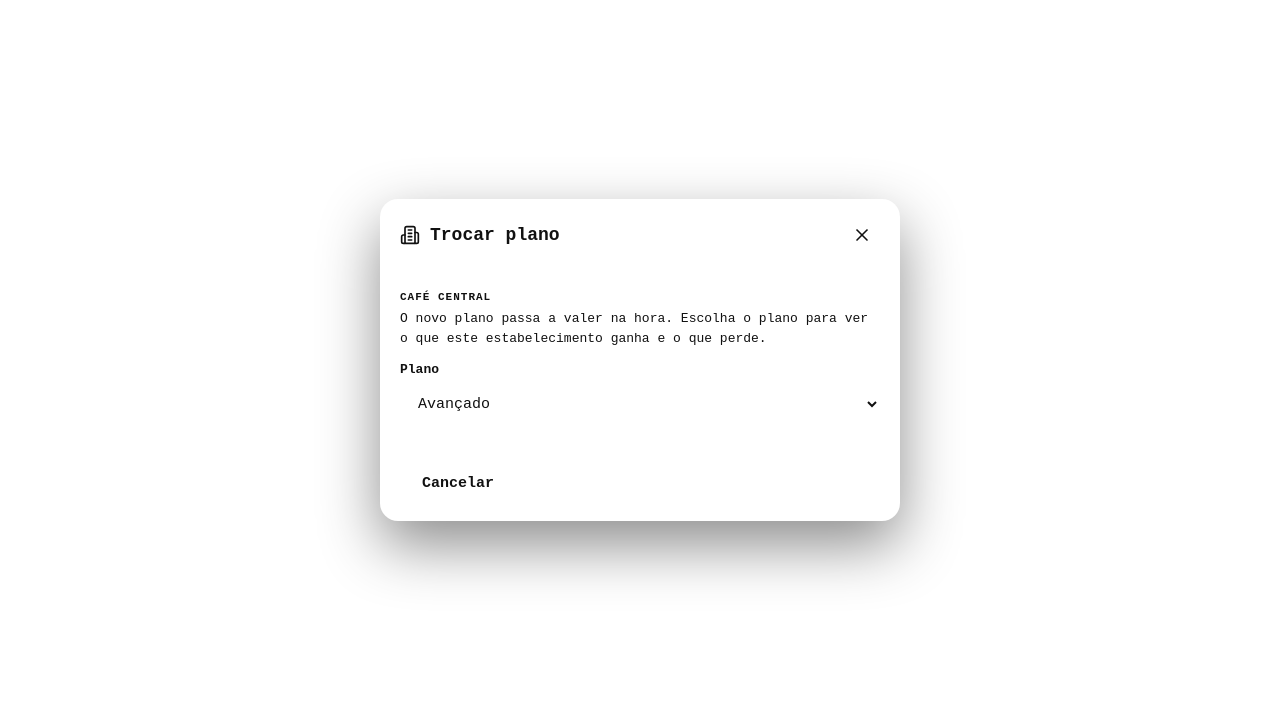
Test case: AlterarPlanoModal, a troca de plano diz o que o cliente perde › na troca que perde uma coisa e ganha outra, mostra as duas listas
The image size is (1280, 720).
Select "Alto" in the dropdown at (640, 404), box [400,383,880,426]
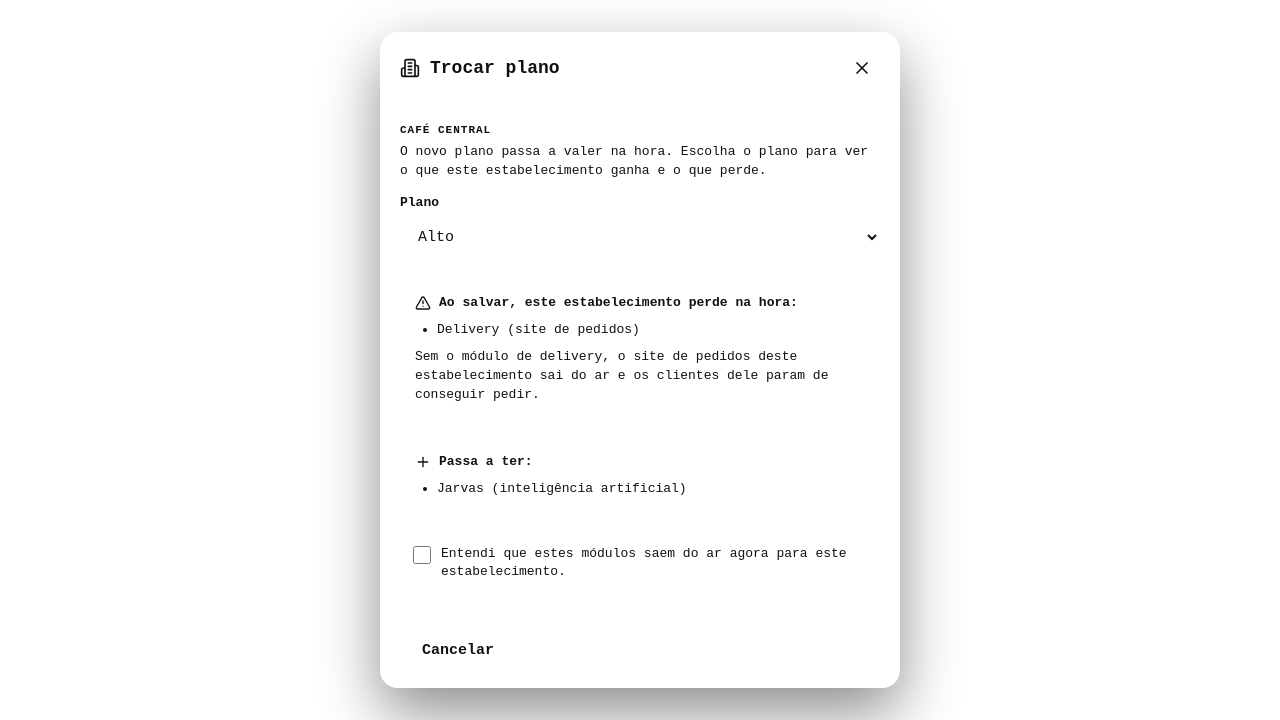
Expected: the 1st message shows "Delivery (site de pedidos)", [437,322,640,336]
Expected: the text "Passa a ter: Jarvas (inteligência artificial)" is shown, [415,454,687,496]
Expected: the checkbox is shown, [413,546,431,564]
